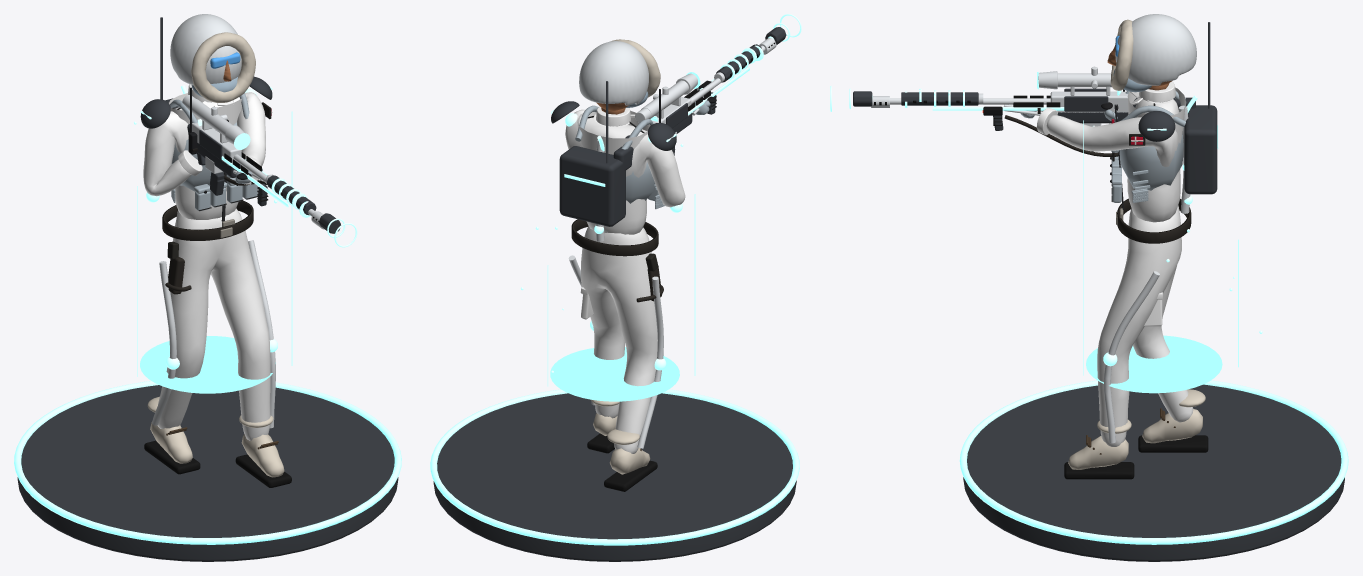
Rendered from skytte_arktis.glb.
3 renders of one model, left to right at view 1: azimuth 30°, elevation 25°; view 2: azimuth 150°, elevation 25°; view 3: azimuth 270°, elevation 25°, orthographic. The views are drawn at different scales.
Parts seen in each view (by area): view 1: fod_net, menneske_net, hoved_net, op1_net, op4_net, vaaben_net, op4.002_net, op3.001_net, op3_net, op4.001_net, op1.001_net; view 2: fod_net, menneske_net, op3_net, op4_net, hoved_net, op1_net, vaaben_net, op4.002_net, op3.001_net, op4.001_net; view 3: fod_net, menneske_net, hoved_net, op4_net, op1_net, op3_net, vaaben_net, op3.001_net, op4.002_net, op1.001_net, op4.001_net.
Part boxes in pixels (x1,y1,x2,y2): fod_net: (14,381,401,561); menneske_net: (143,84,291,487); hoved_net: (170,14,255,102); op1_net: (162,87,257,294); op4_net: (134,111,292,393); vaaben_net: (172,95,318,221); op4.002_net: (146,89,277,428); op3.001_net: (199,130,340,233); op3_net: (140,17,272,128); op4.001_net: (181,85,357,247); op1.001_net: (218,133,323,220); fod_net: (430,389,799,561); menneske_net: (565,96,716,491); op3_net: (551,81,676,226); op4_net: (521,144,695,401); hoved_net: (579,39,660,110); op1_net: (571,89,663,302); vaaben_net: (613,42,775,170); op4.002_net: (565,113,682,448); op3.001_net: (664,27,786,155); op4.001_net: (597,14,801,151); fod_net: (959,380,1348,561); menneske_net: (1020,81,1208,479); hoved_net: (1107,14,1196,92); op4_net: (1083,120,1262,393); op1_net: (1037,89,1191,243); op3_net: (1138,22,1218,194); vaaben_net: (874,66,1195,123); op3.001_net: (853,88,1108,151); op4.002_net: (1103,105,1192,443); op1.001_net: (872,72,1118,156); op4.001_net: (830,86,1197,113).
Size of the model in its own units: 1.94 by 2.56 by 2.58.
